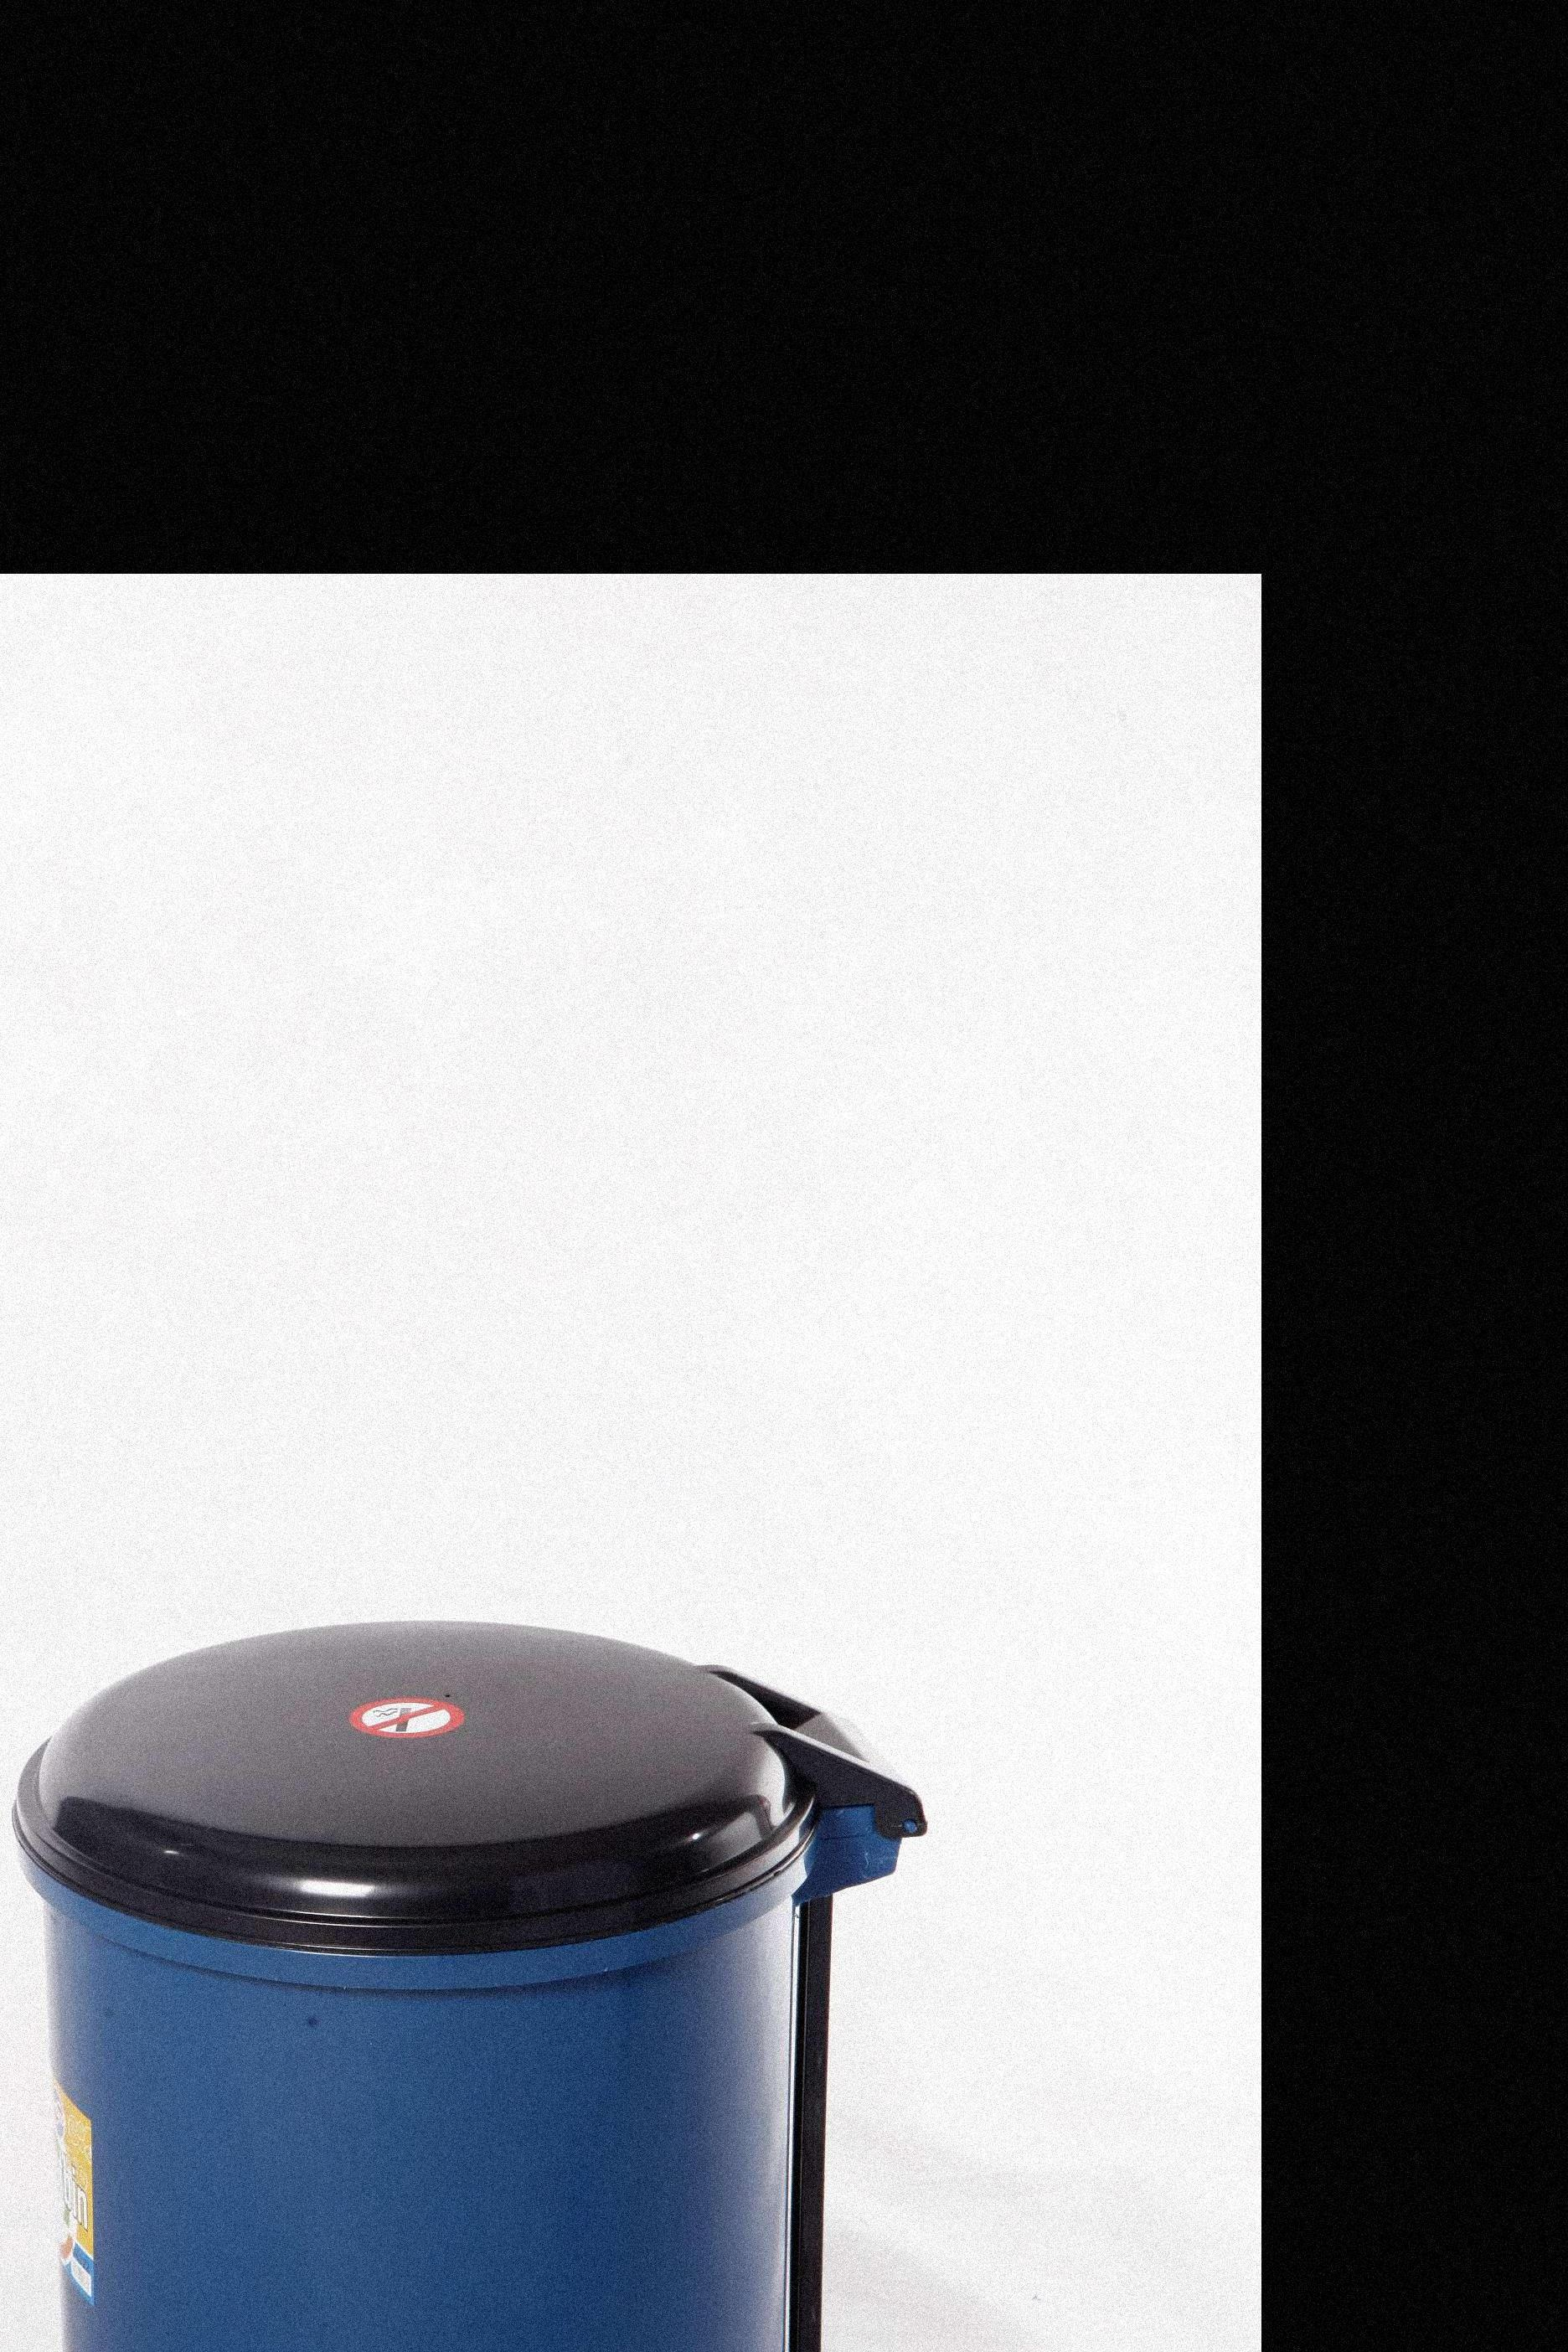Bote de Basura: (0, 1635, 921, 2352)
